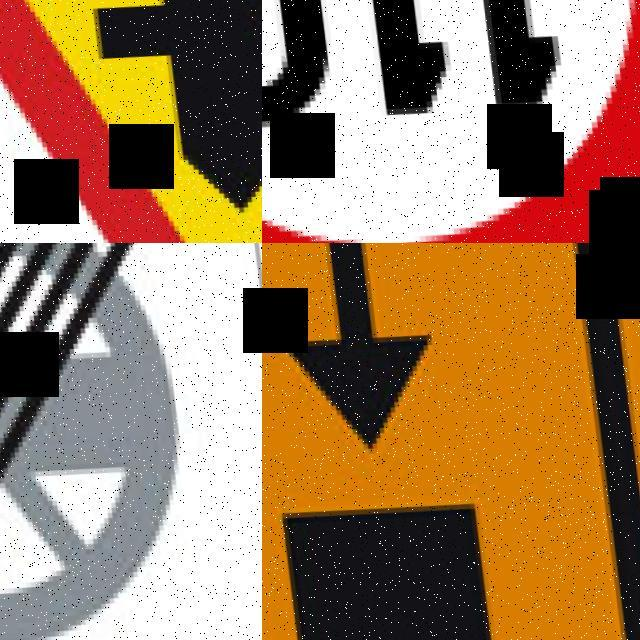111: (0, 243, 262, 640)
166: (0, 0, 262, 243)
63: (262, 243, 640, 640)
speed limit-110: (262, 0, 640, 243)
